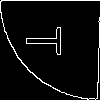T: (25, 25, 72, 57)
